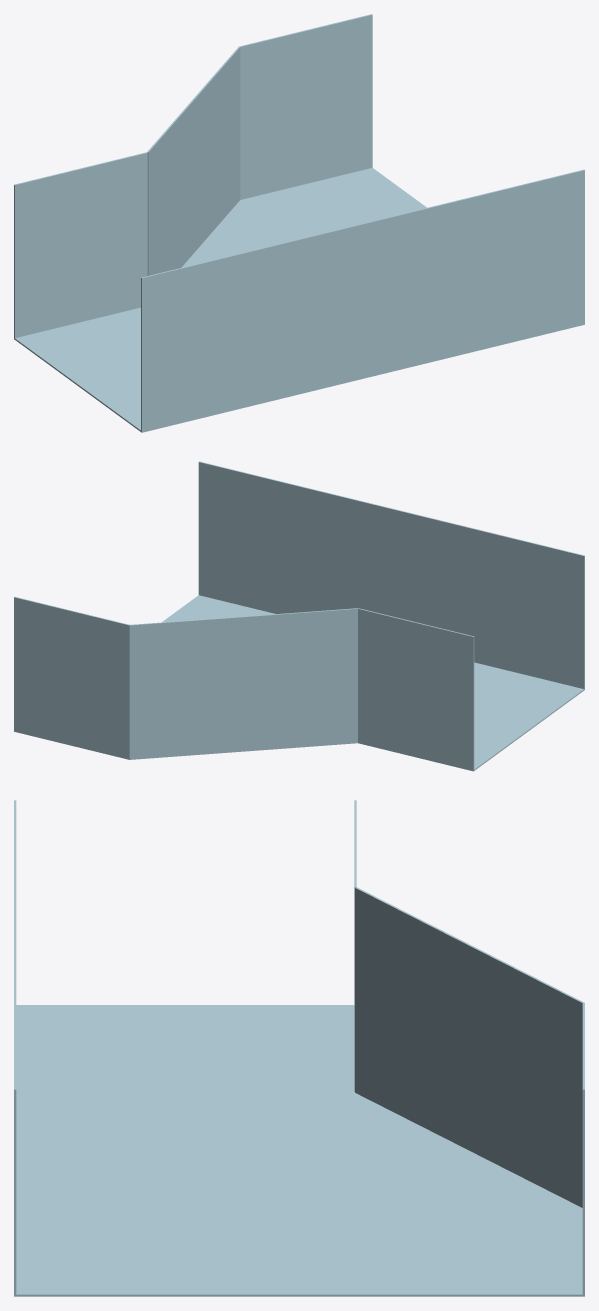
3 views of the same model, one above another, from view 1: azimuth 30°, elevation 25°; view 2: azimuth 150°, elevation 25°; view 3: azimuth 270°, elevation 25° (orthographic). The views are drawn at different scales.
Visible parts, largest first — view 1: L3-C14; view 2: L3-C14; view 3: L3-C14.
Boxes of the visible parts, bbox=[...] form: L3-C14: bbox=[14, 14, 584, 432]; L3-C14: bbox=[14, 461, 584, 771]; L3-C14: bbox=[14, 800, 584, 1296].
Size of the model in its own units: 0.6 by 0.2 by 0.5.
